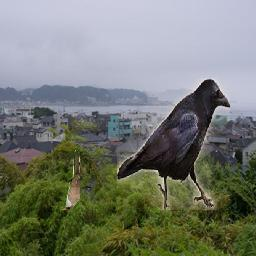Crow: (118, 78, 231, 210)
Cuckoo: (60, 150, 80, 211)
